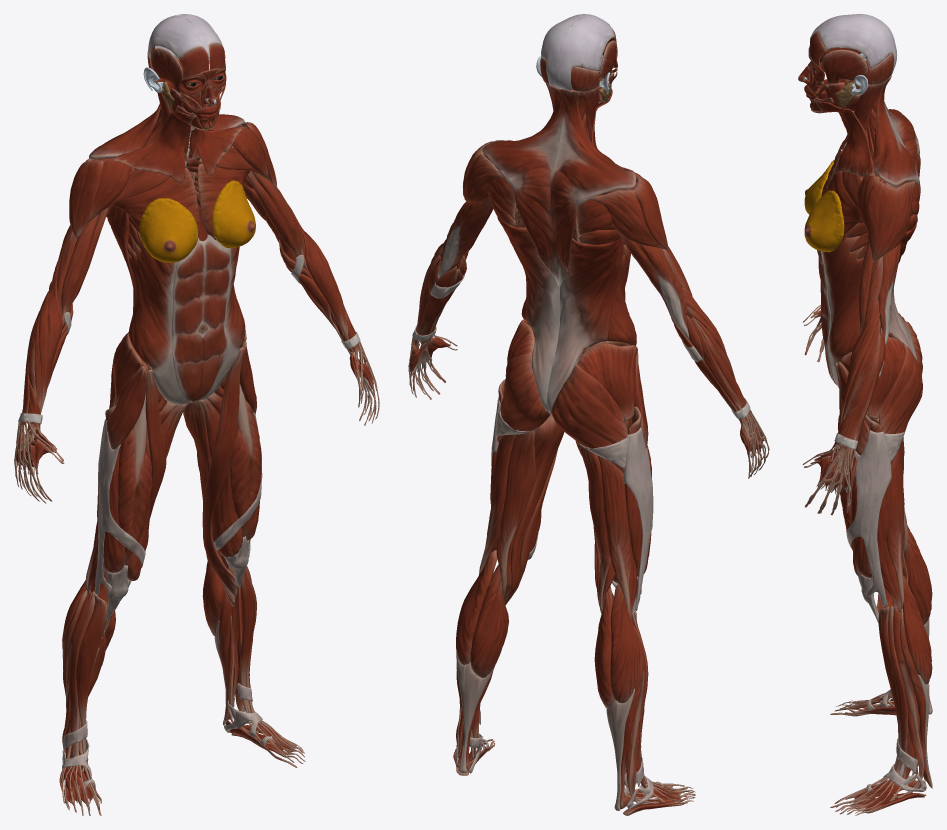
Rendered from core-lite.glb.
3 views of the same model, side by side, from view 1: azimuth 30°, elevation 25°; view 2: azimuth 150°, elevation 25°; view 3: azimuth 270°, elevation 25° (orthographic). The views are drawn at different scales.
Visible parts, largest first — view 1: Rectus_Abdominis_m, External_Oblique_r, Sartorius_l, Rectus_Femoris_r, Breasts_r, Rectus_Femoris_l, Platysma_r, Iliotibial_Tract_IT_Band__r, Breasts_l, Tibialis_Anterior_r, Biceps_Brachii_r, Biceps_Brachii_l (+31 smaller); view 2: Latissimus_Dorsi_r, Trapezius_r, Trapezius_l, Latissimus_Dorsi_l, Gluteus_Maximus_r, Biceps_Femoris_Long_Head__r, Gluteus_Medius_r, Gluteus_Maximus_l, Gastrocnemius_Lateral_Head_l, Gastrocnemius_Medial_Head_r, Semitendinosus_l, Epicranial_Aponeurosis_001_r (+27 smaller); view 3: Iliotibial_Tract_IT_Band__l, External_Oblique_l, Epicranial_Aponeurosis_001_l, Trapezius_l, Gluteus_Maximus_l, Deltoid_Middle_l, Platysma_l, Breasts_l, Biceps_Femoris_Long_Head__l, Vastus_Lateralis_l, Gastrocnemius_Medial_Head_l, Extensor_Digitorum_Longus_l (+46 smaller).
Boxes of the visible parts, x1,y1,x2,y2 form: Rectus_Abdominis_m: (172,234,230,402); External_Oblique_r: (129,230,189,404); Sartorius_l: (202,347,243,596); Rectus_Femoris_r: (117,393,152,565); Breasts_r: (139,198,198,262); Rectus_Femoris_l: (229,384,260,537); Platysma_r: (113,111,207,182); Iliotibial_Tract_IT_Band__r: (95,419,145,595); Breasts_l: (211,180,255,248); Tibialis_Anterior_r: (76,593,107,786); Biceps_Brachii_r: (61,207,108,327); Biceps_Brachii_l: (247,171,308,271); Latissimus_Dorsi_r: (547,238,623,414); Trapezius_r: (551,89,636,286); Trapezius_l: (482,84,564,286); Latissimus_Dorsi_l: (492,163,560,413); Gluteus_Maximus_r: (551,364,627,472); Biceps_Femoris_Long_Head__r: (597,455,631,614); Gluteus_Medius_r: (577,343,637,420); Gluteus_Maximus_l: (497,353,550,442); Gastrocnemius_Lateral_Head_l: (470,564,508,677); Gastrocnemius_Medial_Head_r: (610,584,639,703); Semitendinosus_l: (499,430,534,598); Epicranial_Aponeurosis_001_r: (557,14,614,90); Iliotibial_Tract_IT_Band__l: (846,430,891,606); External_Oblique_l: (822,223,864,387); Epicranial_Aponeurosis_001_l: (810,17,897,75); Trapezius_l: (872,75,920,201); Gluteus_Maximus_l: (879,345,922,464); Deltoid_Middle_l: (866,180,899,261); Platysma_l: (811,99,874,176); Breasts_l: (804,190,844,252); Biceps_Femoris_Long_Head__l: (886,448,904,608); Vastus_Lateralis_l: (851,415,891,578); Gastrocnemius_Medial_Head_l: (902,579,932,684); Extensor_Digitorum_Longus_l: (836,605,907,813).
Size of the model in its own units: 0.8084 by 1.68 by 0.2752.
Materials: 6 (6 with a texture image).
